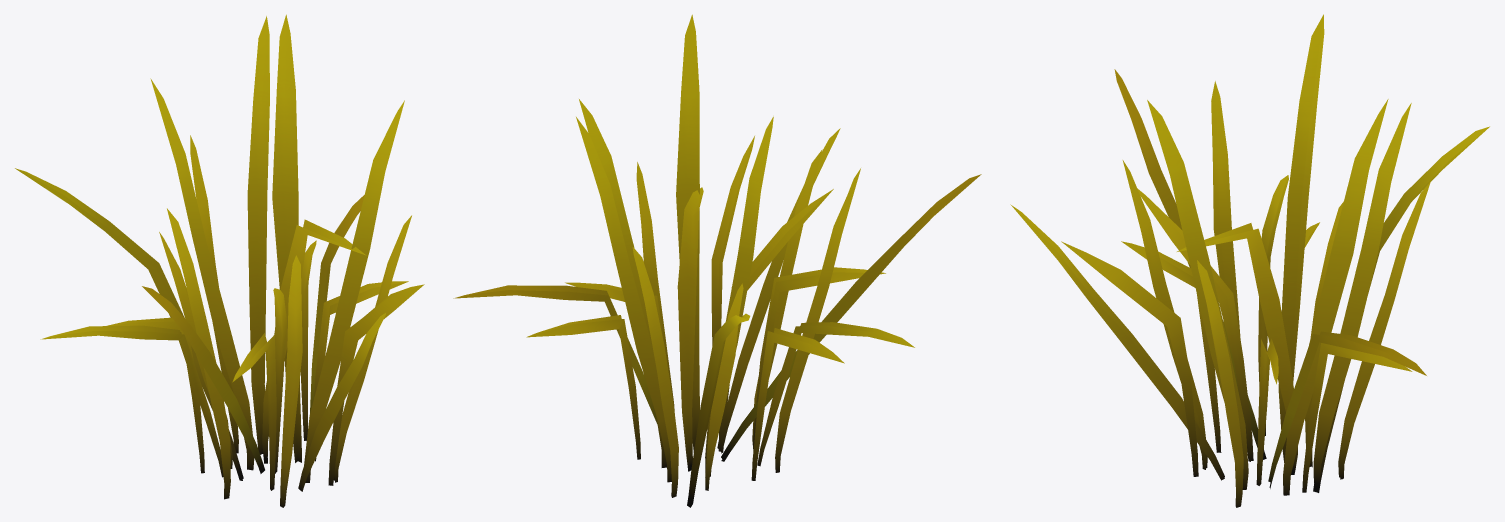
The model's file is grass.glb.
3 renders of one model, left to right at view 1: azimuth 30°, elevation 25°; view 2: azimuth 150°, elevation 25°; view 3: azimuth 270°, elevation 25°, orthographic. The views are drawn at different scales.
Visible parts, largest first — view 1: Grass_Wispy_Short; view 2: Grass_Wispy_Short; view 3: Grass_Wispy_Short.
Part boxes in pixels (x1,y1,x2,y2): Grass_Wispy_Short: (15,14,424,507); Grass_Wispy_Short: (453,14,981,507); Grass_Wispy_Short: (1010,14,1489,507).
Bounding box in the file's own units: 1 × 1 × 1.
Materials: 1 (1 with a texture image).
